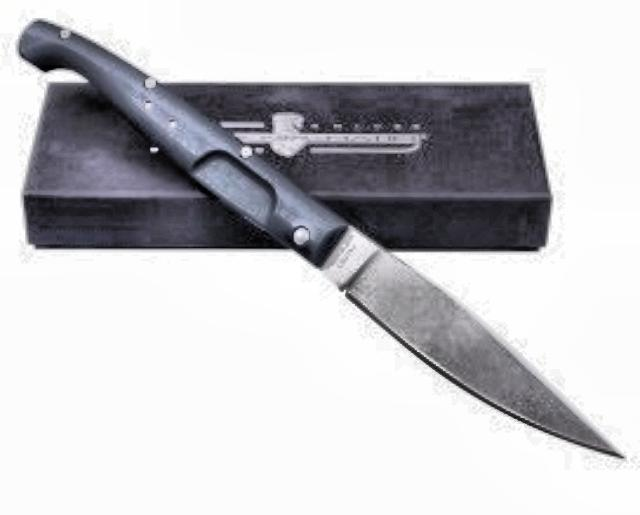knife: (306, 217, 628, 464)
